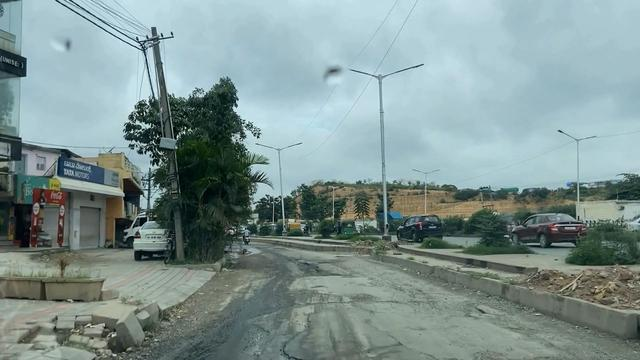RoadDamages: (244, 323, 396, 360), (252, 283, 366, 314), (453, 294, 499, 322), (293, 252, 335, 274)
